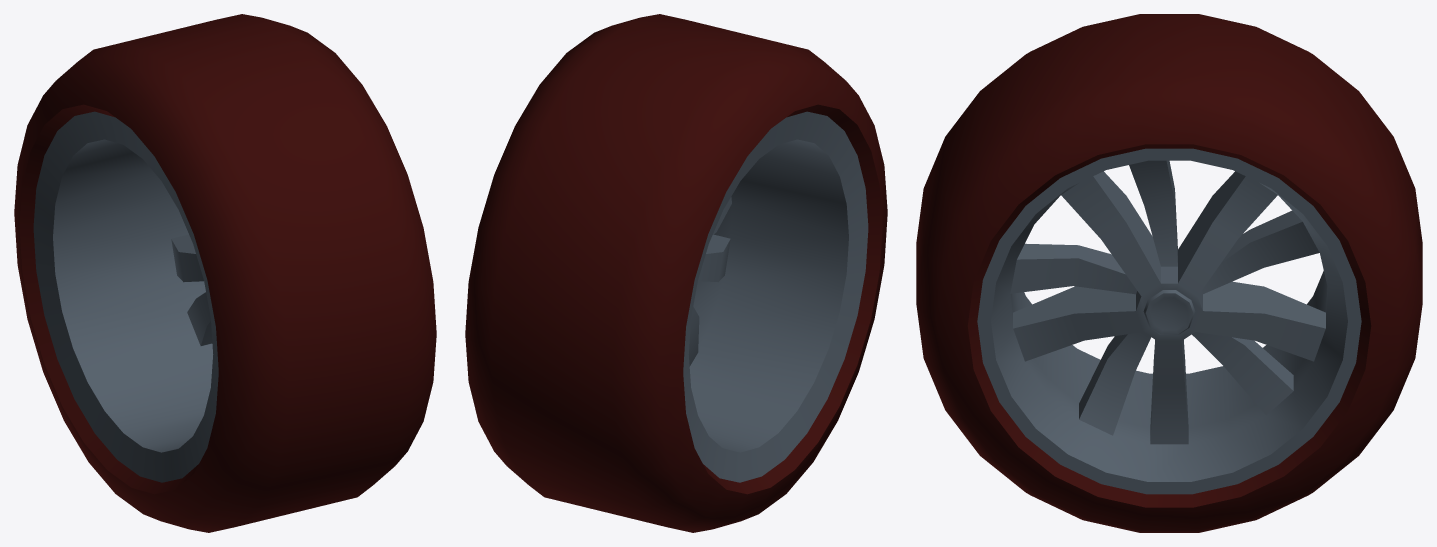
The picture shows the model from 3 angles, left to right: view 1: azimuth 30°, elevation 25°; view 2: azimuth 150°, elevation 25°; view 3: azimuth 270°, elevation 25°; orthographic projection.
Parts seen in each view (by area): view 1: W7A; view 2: W7A; view 3: W7A.
Part boxes in pixels (box(x1,y1,x2,y2)): W7A: box(14, 14, 436, 532); W7A: box(465, 14, 887, 532); W7A: box(916, 14, 1422, 532).
Size of the model in its own units: 14.02 by 28.35 by 28.56.
